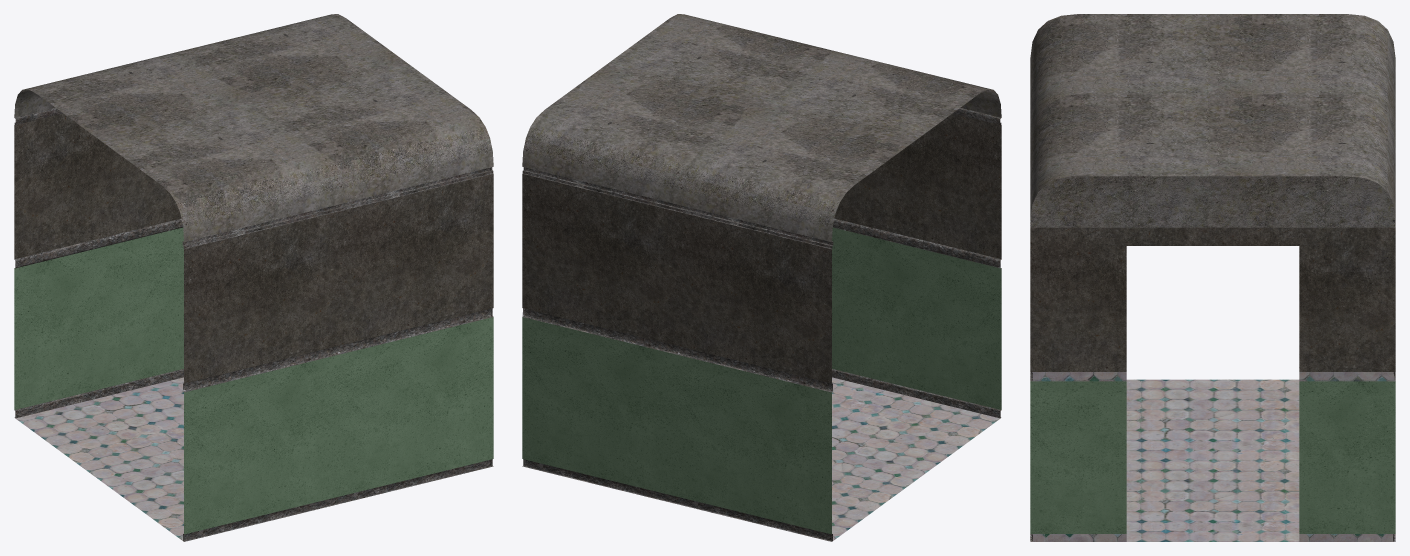
File: CorridorBlockDeadEnd_WithDoorway.FBX
3 renders of one model, left to right at view 1: azimuth 30°, elevation 25°; view 2: azimuth 150°, elevation 25°; view 3: azimuth 270°, elevation 25°, orthographic. The views are drawn at different scales.
Visible parts, largest first — view 1: DeadEnd_WithDoorway; view 2: DeadEnd_WithDoorway; view 3: DeadEnd_WithDoorway.
Part boxes in pixels (<box>): DeadEnd_WithDoorway: <box>14,14,493,541</box>; DeadEnd_WithDoorway: <box>522,14,1001,541</box>; DeadEnd_WithDoorway: <box>1030,14,1395,541</box>.
Bounding box in the file's own units: 78.78 × 82.67 × 74.8.
